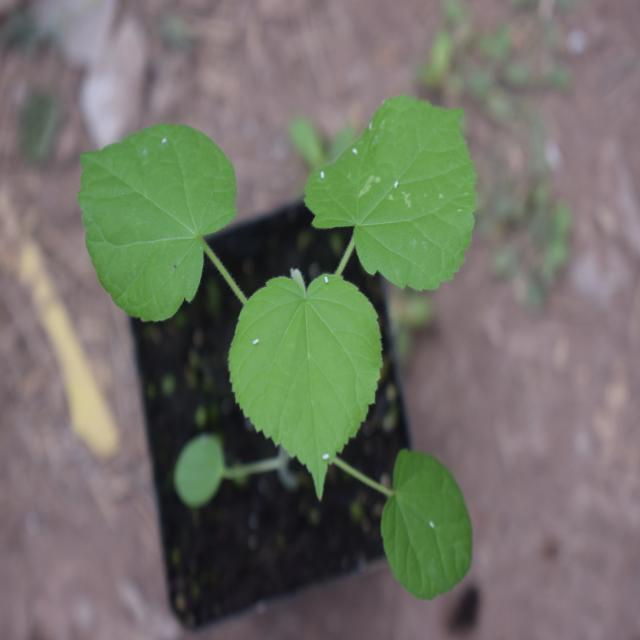abutilon theophrasti: (80, 64, 492, 588)
